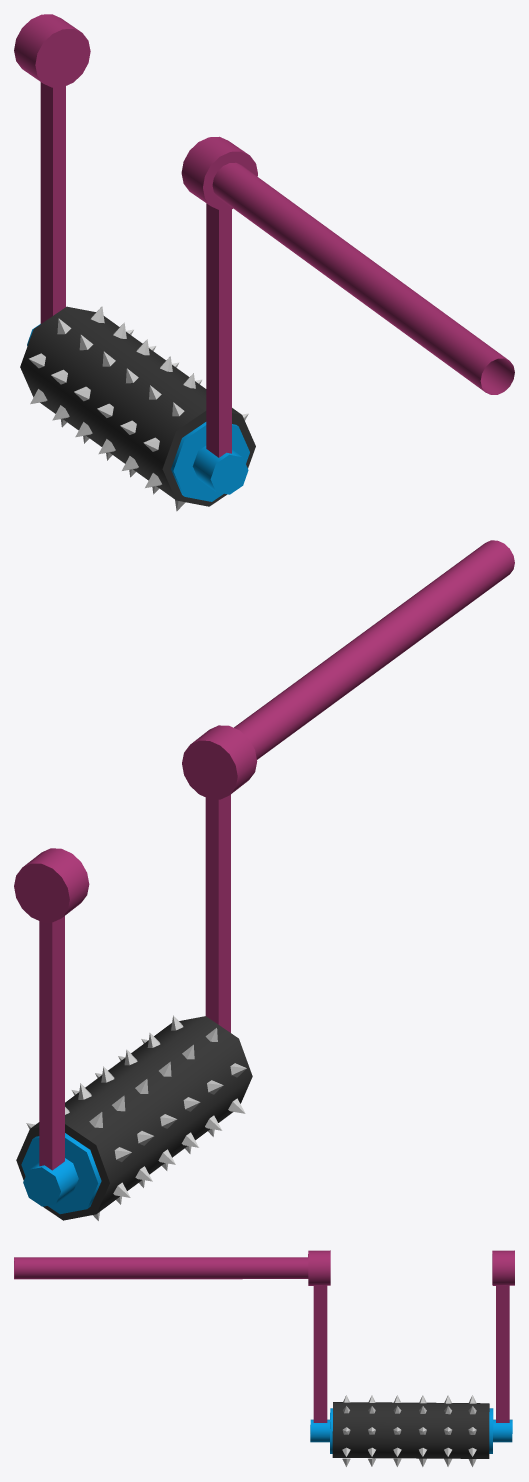
File: _rap_019.fbx
3 renders of one model, top to bottom at view 1: azimuth 30°, elevation 25°; view 2: azimuth 150°, elevation 25°; view 3: azimuth 270°, elevation 25°, orthographic. The views are drawn at different scales.
Parts seen in each view (by area): view 1: rotate, base_01; view 2: rotate, base_01; view 3: rotate, base_01.
Boxes of the visible parts, x1=… form: rotate: x1=14, y1=14, x2=257, y2=511; base_01: x1=212, y1=162, x2=514, y2=394; rotate: x1=14, y1=725, x2=257, y2=1220; base_01: x1=234, y1=540, x2=514, y2=759; rotate: x1=308, y1=1250, x2=514, y2=1466; base_01: x1=14, y1=1257, x2=308, y2=1279.
Size of the model in its own units: 343 by 1166 by 2529.
